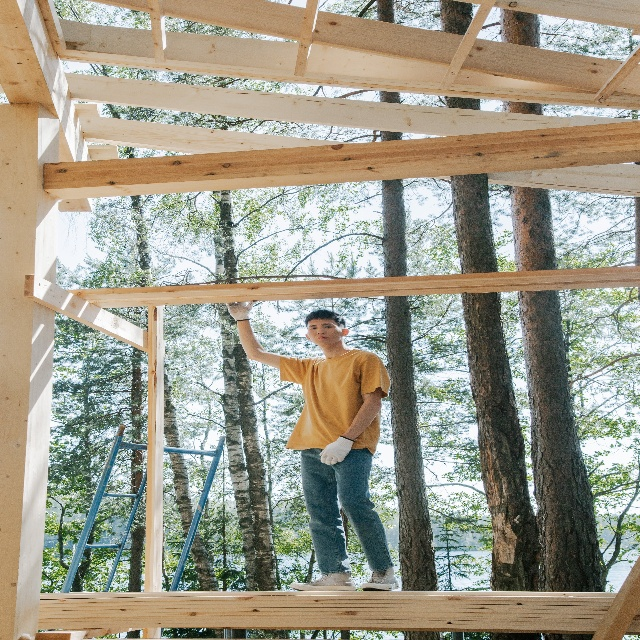Guantes: (319, 435, 354, 465), (226, 300, 256, 321)
